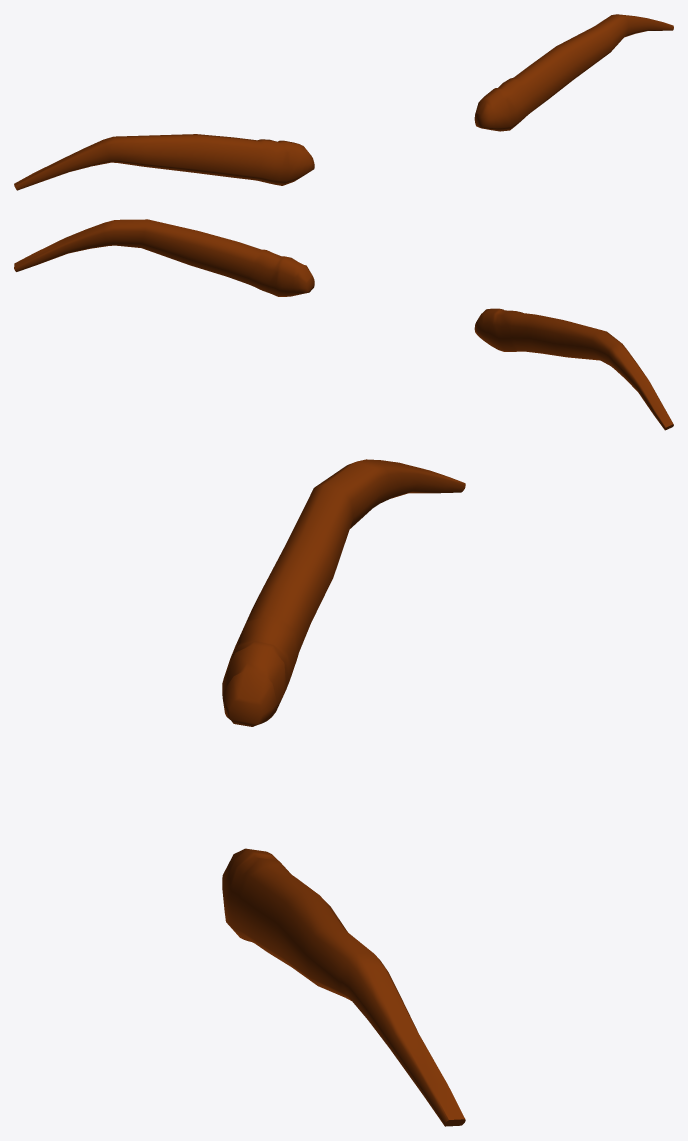
File: Eyebrows_10_02.fbx
3 renders of one model, top to bottom at view 1: azimuth 30°, elevation 25°; view 2: azimuth 150°, elevation 25°; view 3: azimuth 270°, elevation 25°, orthographic. The views are drawn at different scales.
Parts seen in each view (by area): view 1: Eyebrows_10_02; view 2: Eyebrows_10_02; view 3: Eyebrows_10_02.
Boxes of the visible parts, x1,y1,x2,y2 form: Eyebrows_10_02: (14,14,673,190); Eyebrows_10_02: (14,219,673,430); Eyebrows_10_02: (222,459,465,1126).
Bounding box in the file's own units: 19.53 × 1.75 × 3.13.
